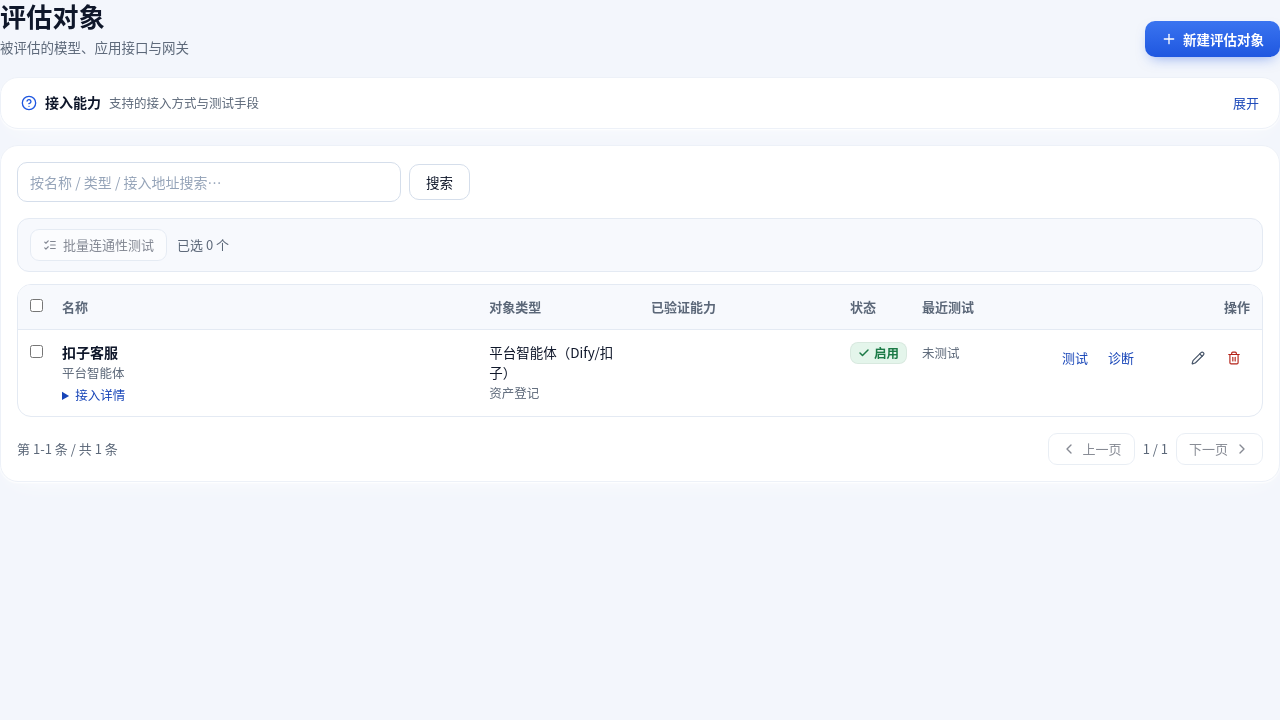
Test case: ModelTargetsPage 平台对象暗号 › 编辑扣子对象留空：输入框为空，显示已配置/未配置，脱敏值不外露，保存时不带暗号字段
The width and height of the screenshot is (1280, 720).
Later steps or results of the test are not shown.
Click the button named "编辑". click: (1198, 358)
box: [1182, 342, 1214, 374]
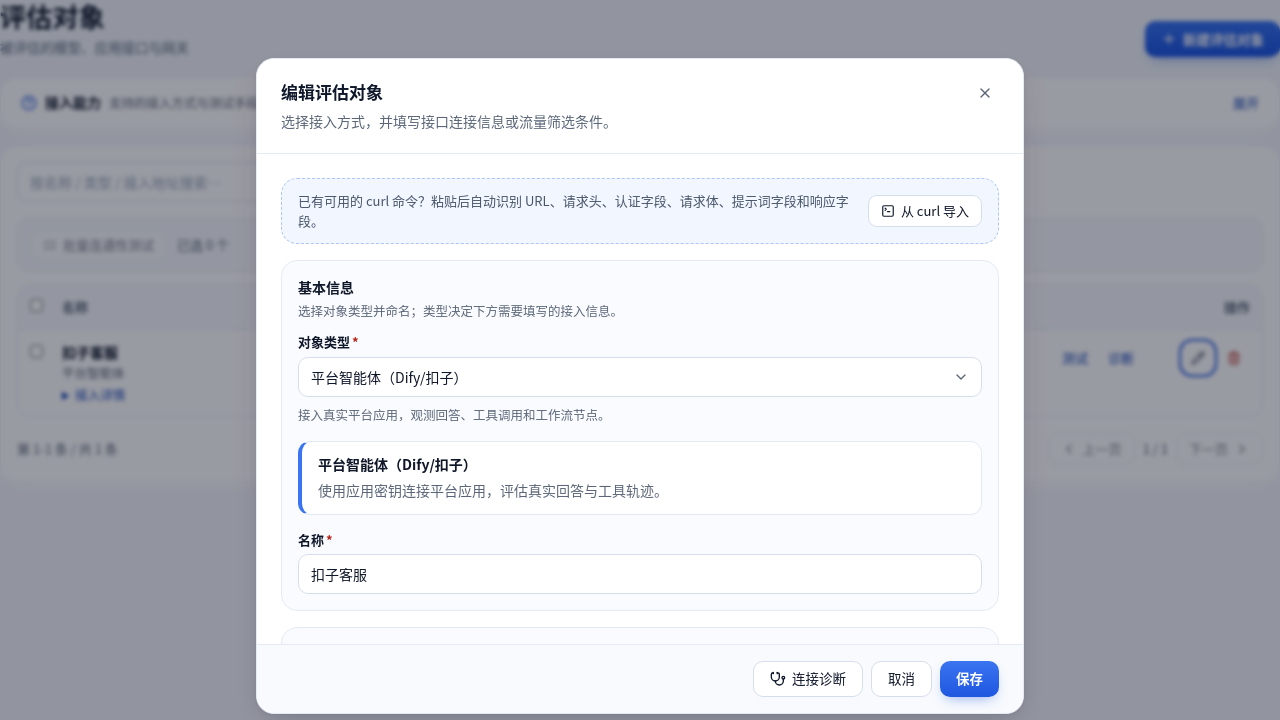
Result: the heading "编辑评估对象" is shown at [281, 79, 383, 104]
